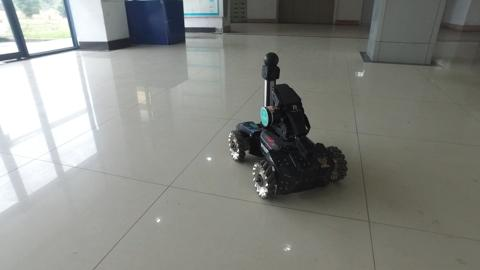chariot: (226, 50, 348, 200)
